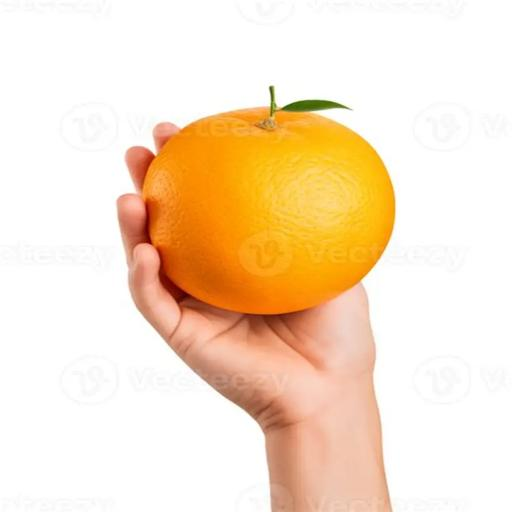orange: (143, 108, 394, 313)
